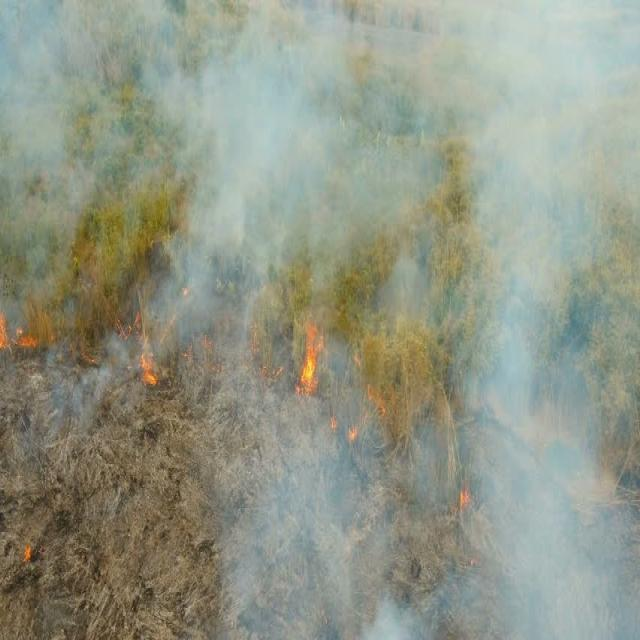Fire: (299, 328, 326, 394), (0, 320, 50, 350), (137, 346, 157, 387), (461, 493, 471, 511), (349, 429, 355, 447), (26, 546, 29, 557)
Smoke: (6, 6, 640, 320), (213, 401, 639, 640), (461, 323, 586, 402)
